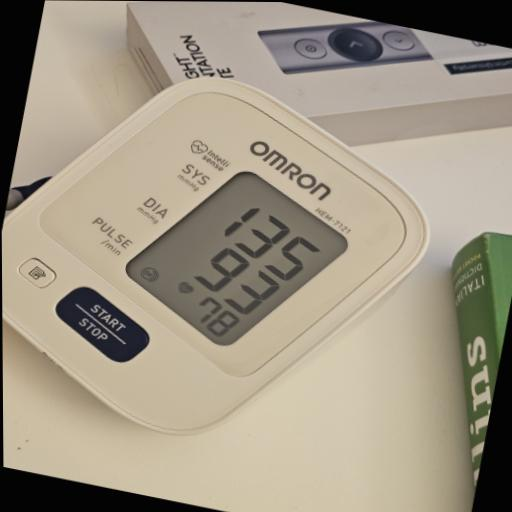lcd display: (111, 151, 360, 370)
